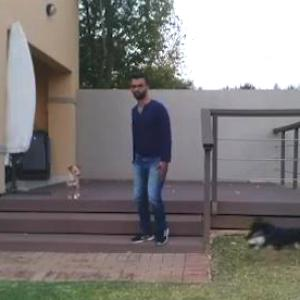follow: (130, 72, 178, 270)
